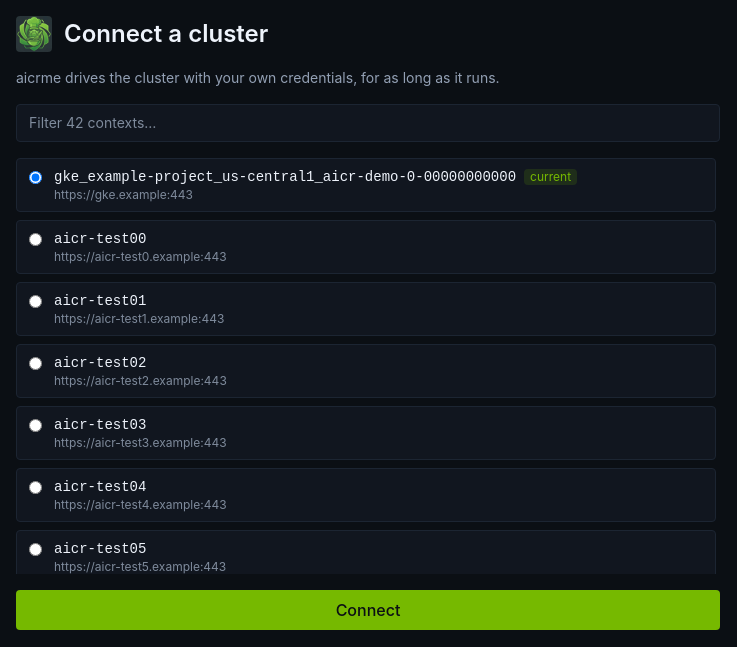
Test: Connect › filters the list by name
Type "zzz" into the field labelled "Filter 42 contexts…".
click(368, 123); type("zzz")  # box [16, 104, 720, 142]
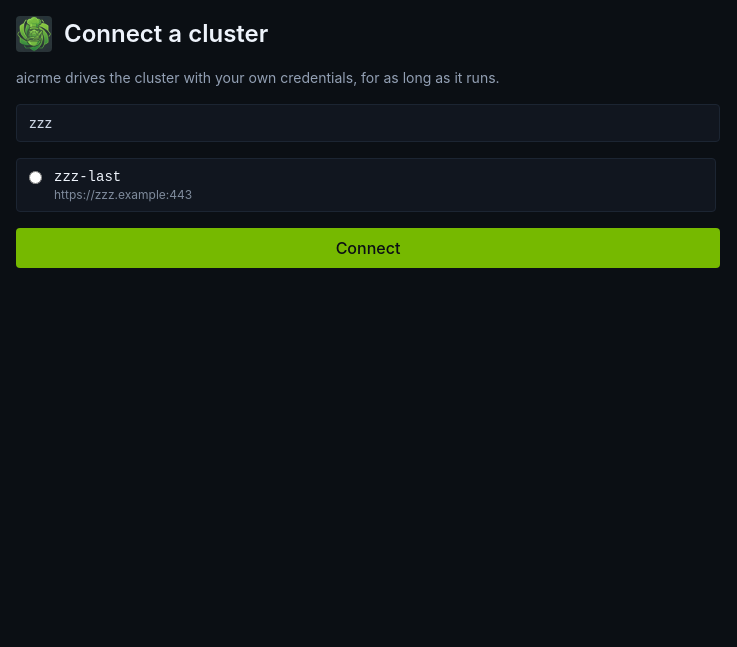
Expected: the number of radio buttons is 1, [29, 171, 42, 184]
Expected: the radio button holds "zzz-last", [29, 171, 42, 184]
